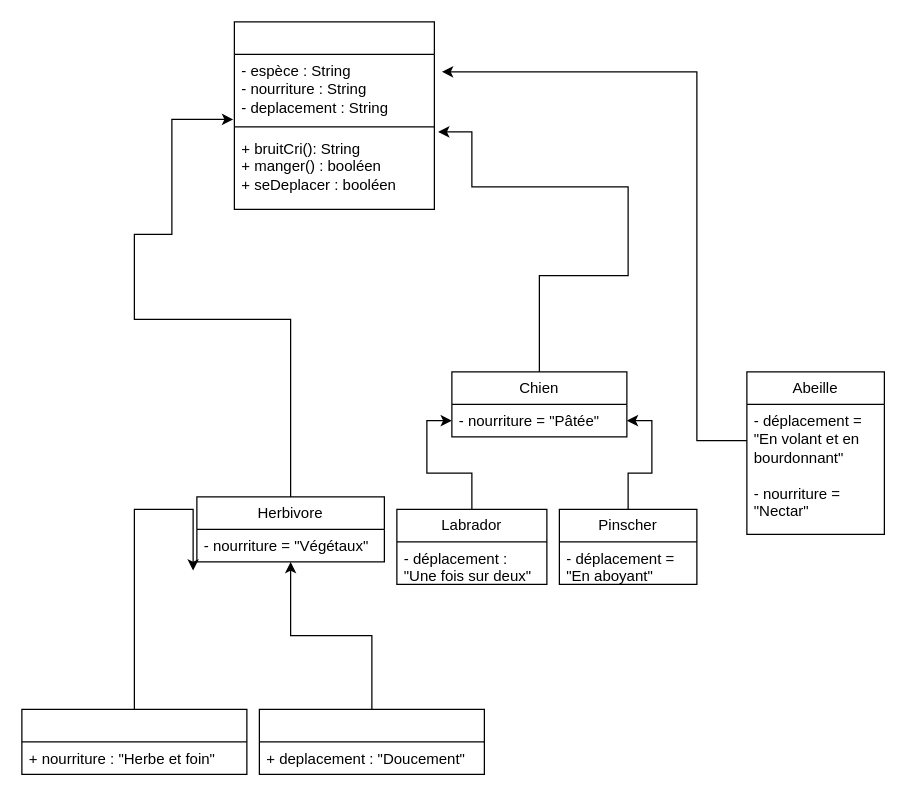
Image size: 906x800. Some labels were removed from this diagram. Each missing label, with the box of its shape:
Animal: (233, 21, 434, 209)
Cheval: (21, 708, 247, 774)
Girafe: (258, 708, 484, 774)
